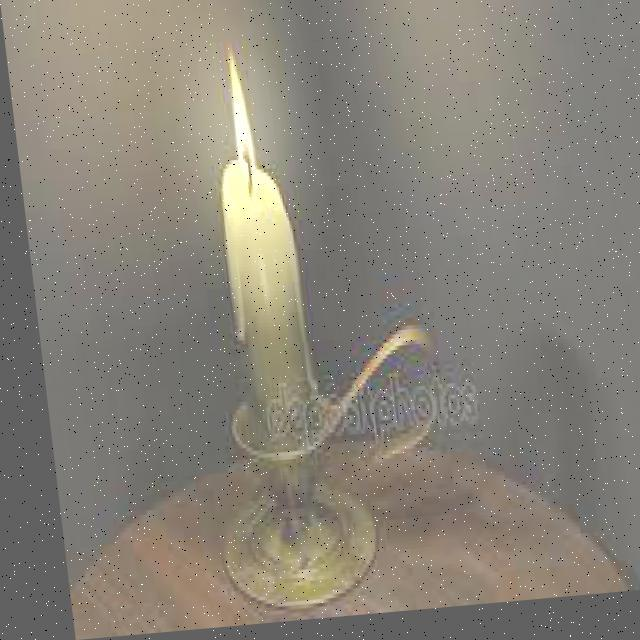Fire: (213, 48, 261, 195)
